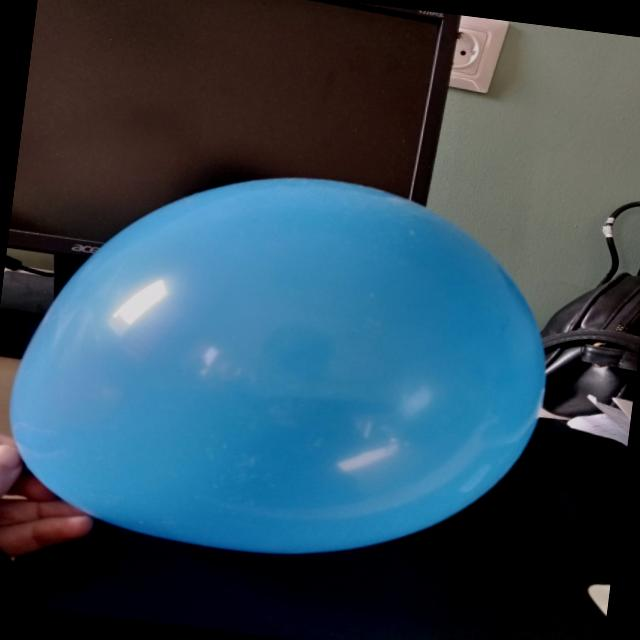balloon: (10, 179, 544, 553)
